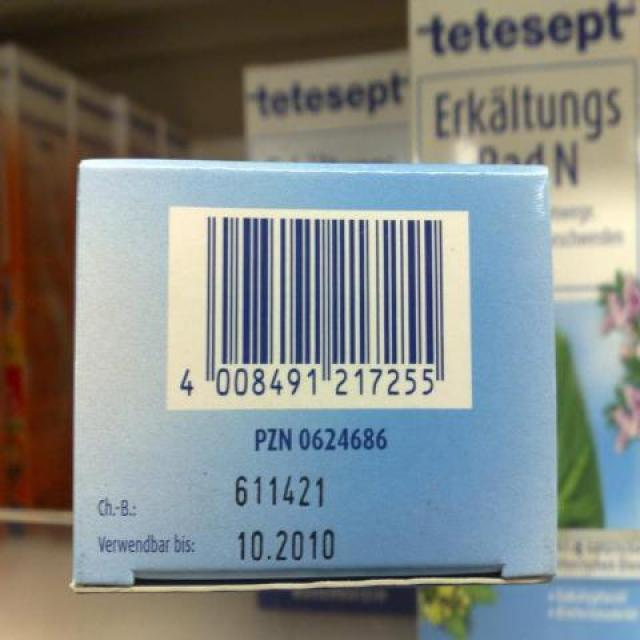Barcode: (167, 206, 472, 410)
